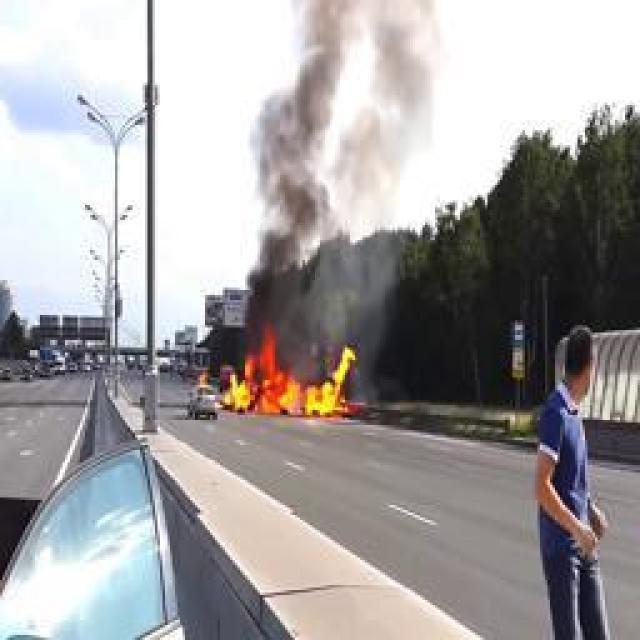Fire: (229, 327, 359, 415)
